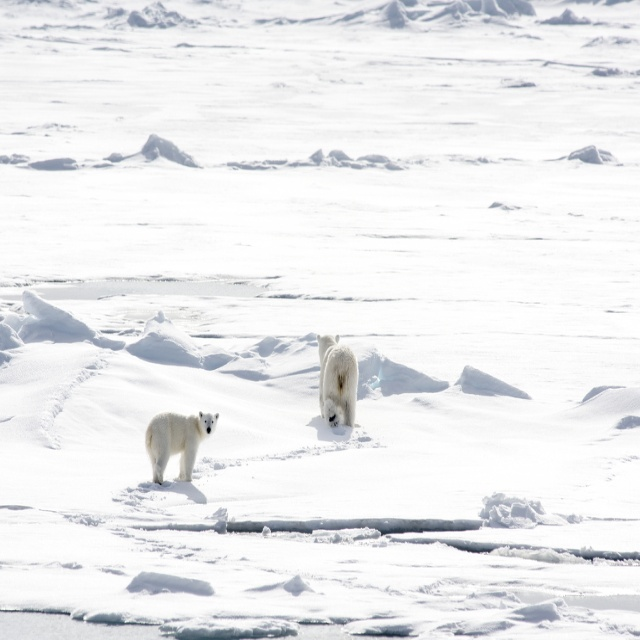Polar bear: (142, 408, 218, 487), (316, 335, 360, 425)
